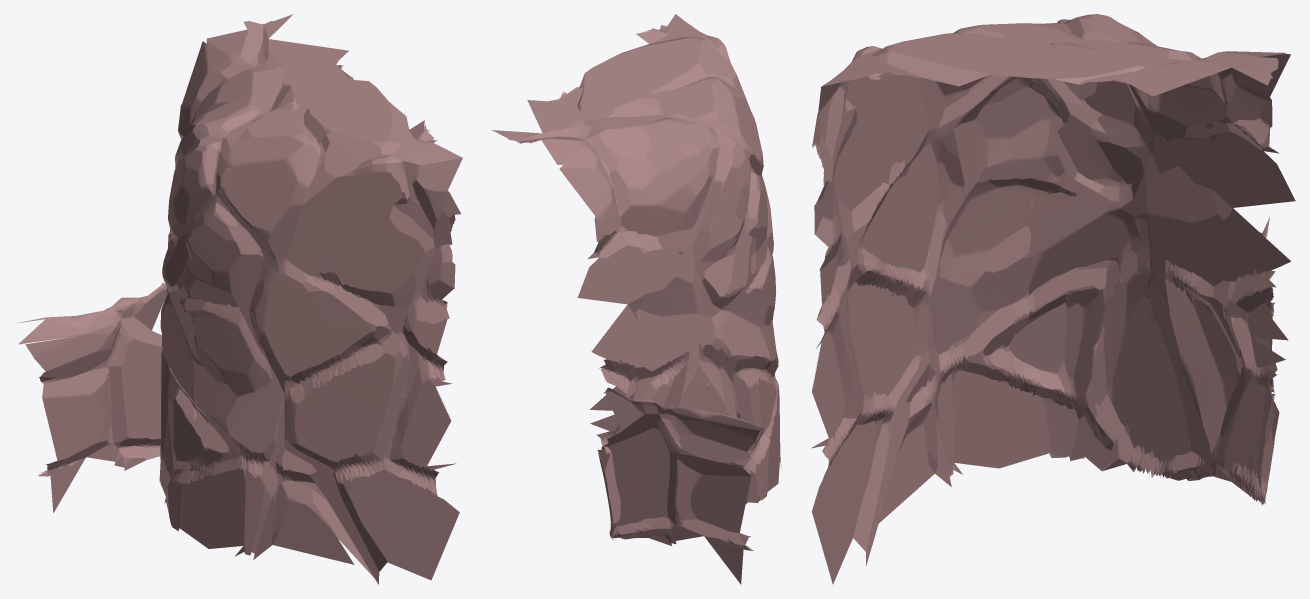
Rendered from cliff_area_2.fbx_Cliff_Area_2_009LODs.fbx.
3 views of the same model, side by side, from view 1: azimuth 30°, elevation 25°; view 2: azimuth 150°, elevation 25°; view 3: azimuth 270°, elevation 25° (orthographic). The views are drawn at different scales.
Parts seen in each view (by area): view 1: Cliff Area 2.009_LOD0; view 2: Cliff Area 2.009_LOD0; view 3: Cliff Area 2.009_LOD0.
Part boxes in pixels (x1=…): Cliff Area 2.009_LOD0: x1=16, y1=14, x2=462, y2=584; Cliff Area 2.009_LOD0: x1=492, y1=14, x2=781, y2=584; Cliff Area 2.009_LOD0: x1=811, y1=14, x2=1295, y2=584.
Size of what is drawn, in the model's own units: 2741 by 3871 by 3213.
